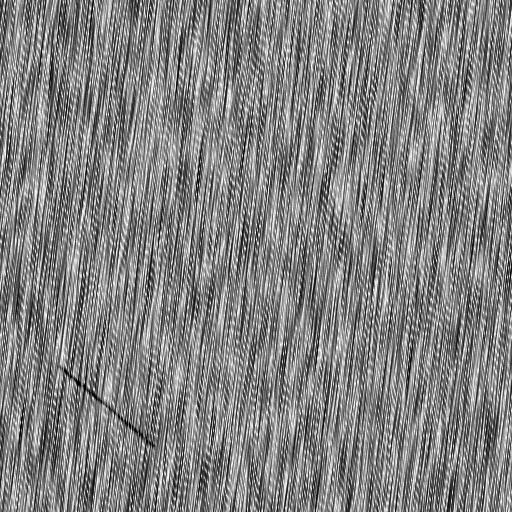scratch: (52, 358, 160, 453)
